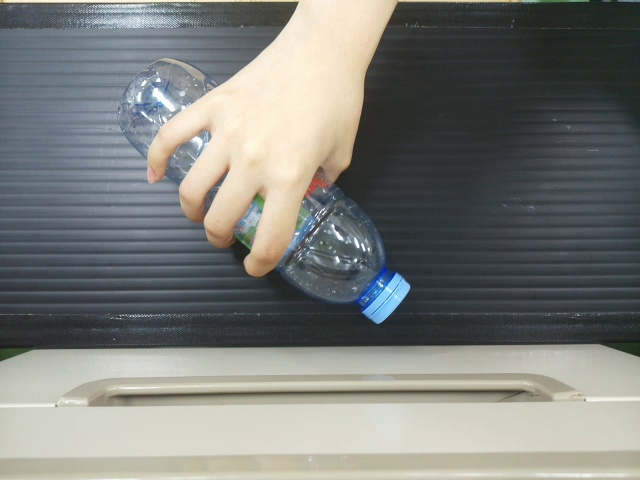bottle: (275, 166, 418, 327), (112, 50, 209, 156)
